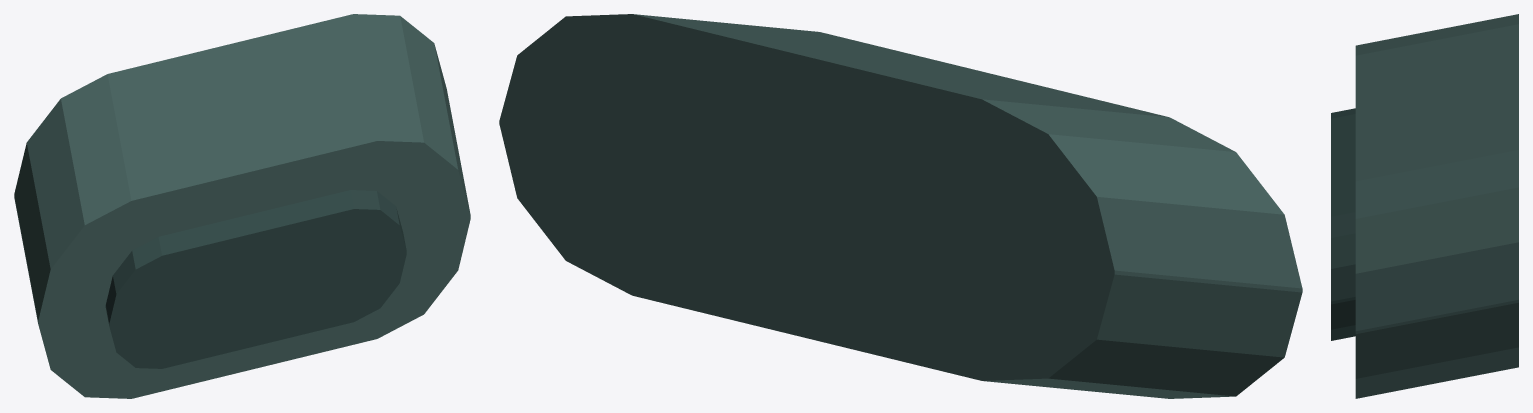
Rendered from Signal_LampOff.gltf.
3 renders of one model, left to right at view 1: azimuth 30°, elevation 25°; view 2: azimuth 150°, elevation 25°; view 3: azimuth 270°, elevation 25°, orthographic. The views are drawn at different scales.
Parts seen in each view (by area): view 1: Signal_LampOff_baked; view 2: Signal_LampOff_baked; view 3: Signal_LampOff_baked.
Boxes of the visible parts, x1,y1,x2,y2 form: Signal_LampOff_baked: (14,14,470,398); Signal_LampOff_baked: (499,14,1302,398); Signal_LampOff_baked: (1331,14,1518,398).
Bounding box in the file's own units: 0.36 × 0.18 × 0.115.
